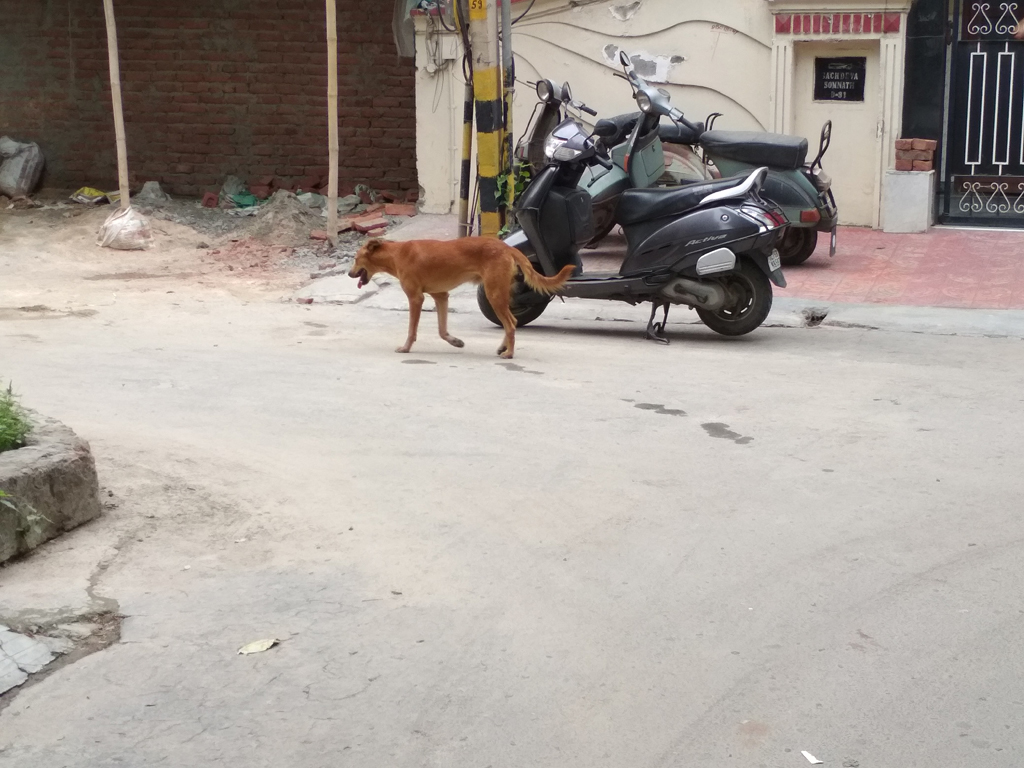dog: (348, 235, 572, 358)
